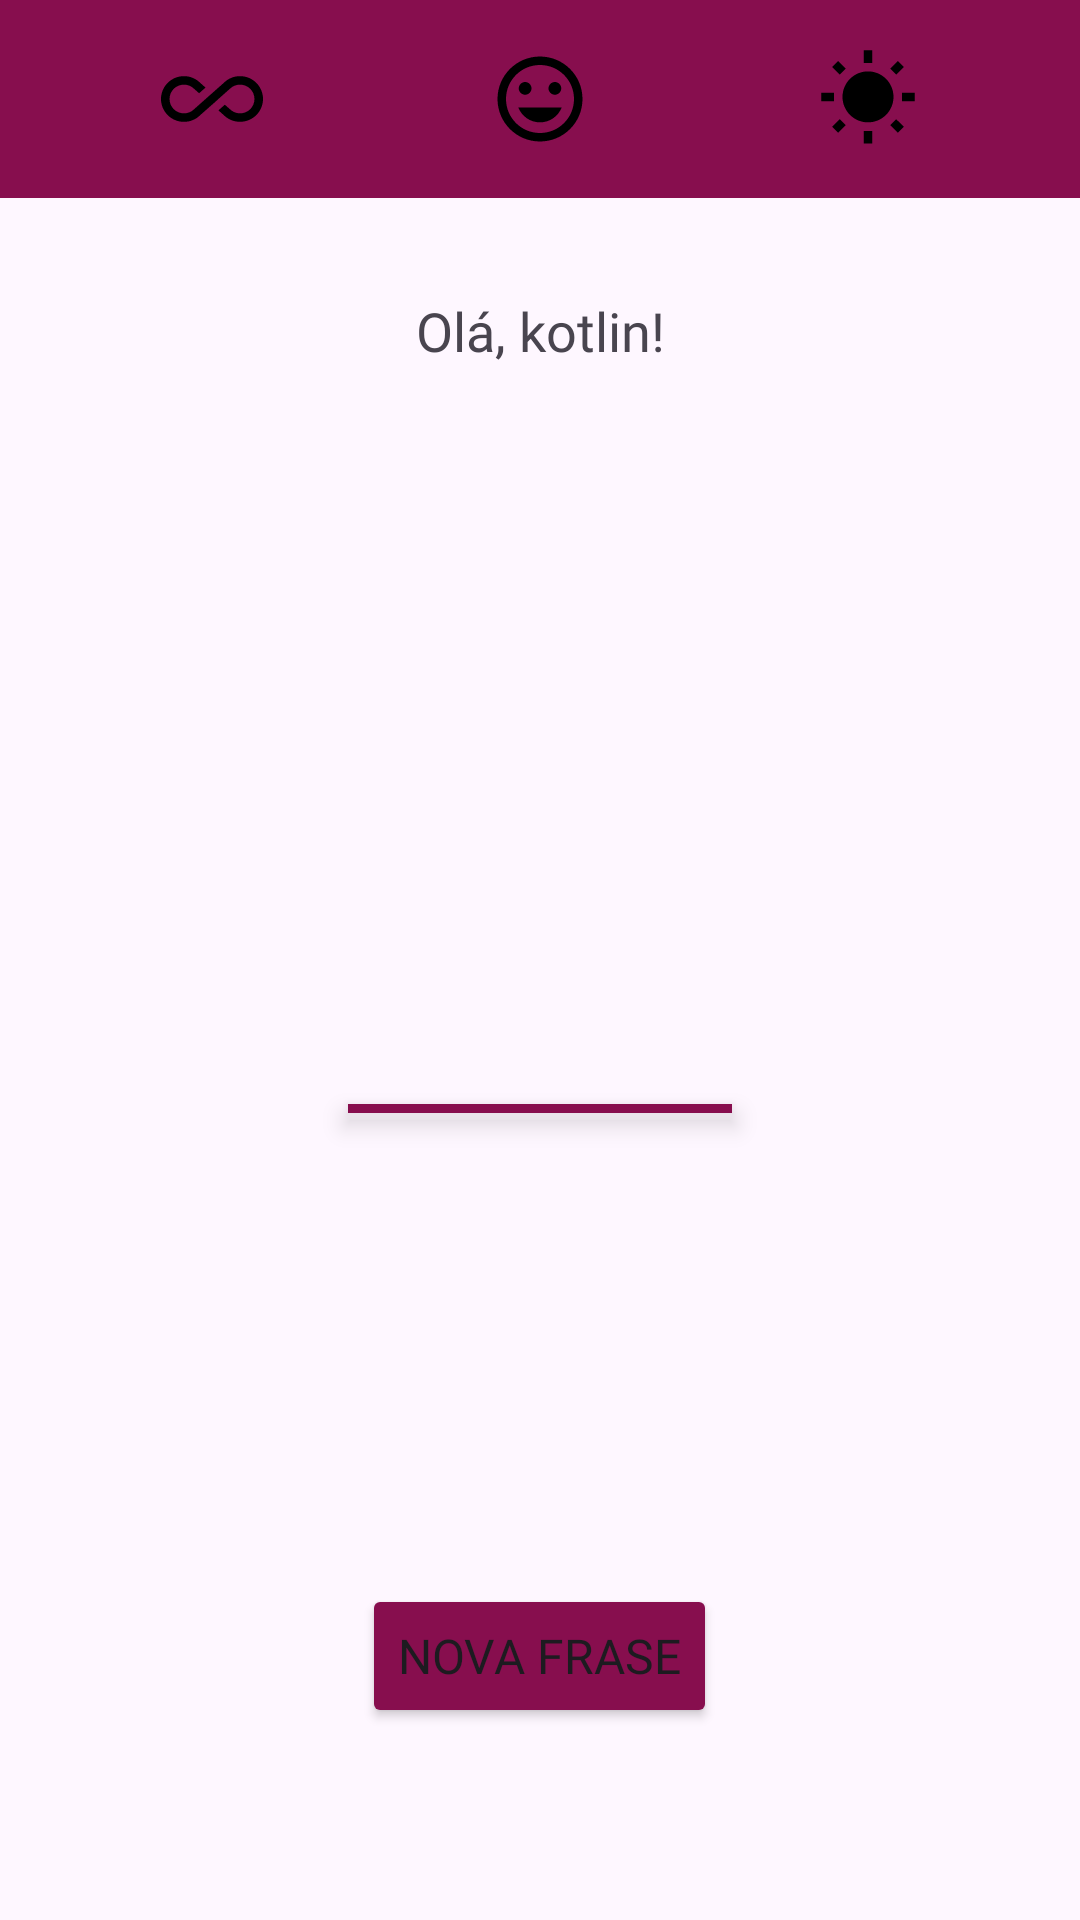

Locate icon controls on the screen. Image size 1080×1920, boxes as (x1, y1, x2, y2).
all inclusive: (161, 76, 263, 122)
sunny: (821, 50, 915, 144)
tag faces: (497, 56, 583, 142)
